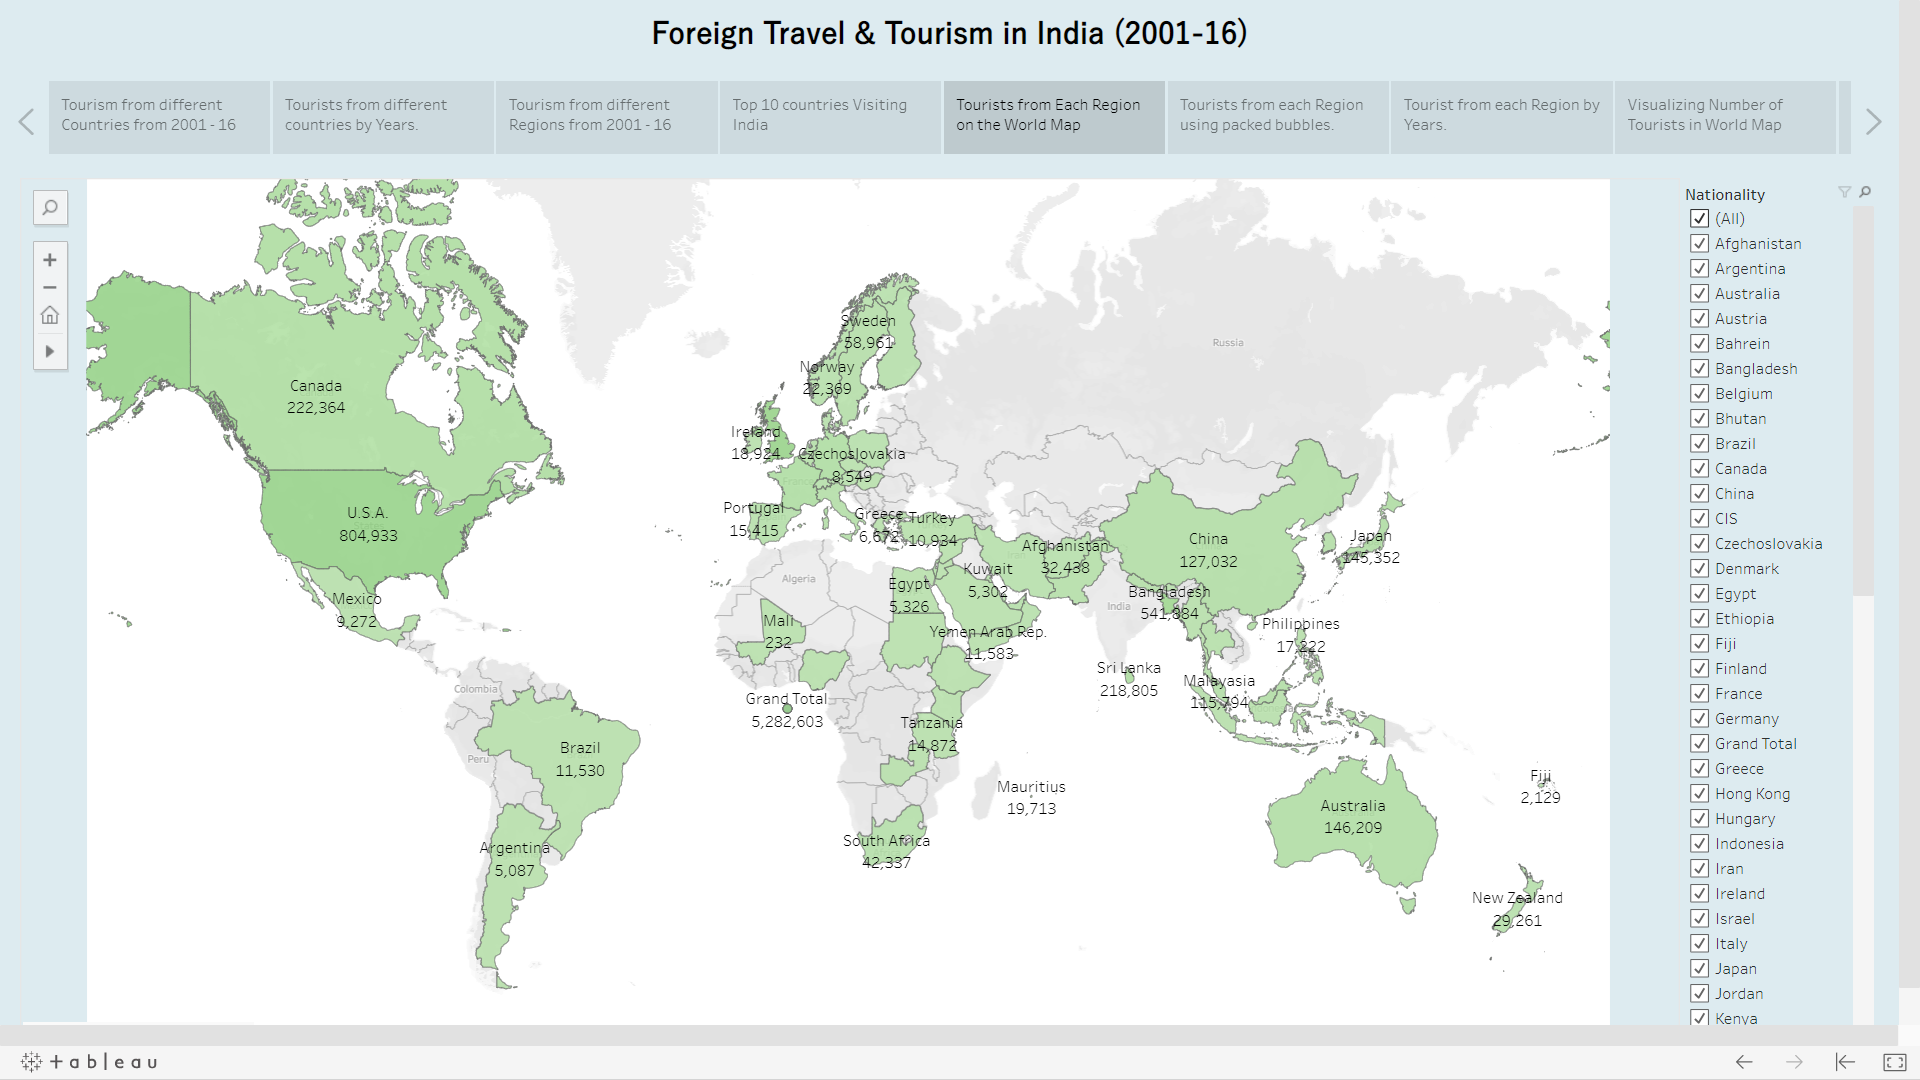

The dashboard page shown, as its layout file describes it:
{"tool":"tableau","page":{"name":"By Country","canvas":[1520,700],"ordinal":0},"visuals":[{"type":"worksheet","box":[0,0,1520,700]},{"type":"worksheet","param":"vert","box":[1273.8,7.9,232.6,63]},{"type":"worksheet","param":"[Parameters].[Parameter 1]","box":[1273.8,7.9,232.6,63]},{"type":"worksheet","param":"vert","box":[8,8,1504,684]},{"type":"worksheet","param":"horz","box":[8,8,1504,684]},{"type":"worksheet","box":[8,8,1504,684]},{"type":"worksheet","title":"Top 10 Countries Visiting India","mark":"Circle","box":[8,8,1504,342]},{"type":"worksheet","title":"Visitors on Map by Country","mark":"Automatic","param":"[federated.0m8pxyp08y5cd51do6m1t1b7czdd].[none:F2:nk]","box":[1283.3,64.8,224.7,292.2]},{"type":"worksheet","box":[13.2,67,341.5,161.3]},{"type":"worksheet","title":"Visitors on Map by Country","mark":"Automatic","box":[8,350,1504,342]}]}

Visuals, with their boxes on the page's 1520x700 design canvas (x1, y1, x2, y2). These are canvas units, not pixel positions in the 1920x1080 screenshot, which may show the page scaled, cropped or inside an application window:
worksheet: left=0, top=0, right=1520, bottom=700
worksheet: left=1274, top=8, right=1506, bottom=71
worksheet: left=1274, top=8, right=1506, bottom=71
worksheet: left=8, top=8, right=1512, bottom=692
worksheet: left=8, top=8, right=1512, bottom=692
worksheet: left=8, top=8, right=1512, bottom=692
"Top 10 Countries Visiting India" worksheet (Circle marks): left=8, top=8, right=1512, bottom=350
"Visitors on Map by Country" worksheet: left=1283, top=65, right=1508, bottom=357
worksheet: left=13, top=67, right=355, bottom=228
"Visitors on Map by Country" worksheet: left=8, top=350, right=1512, bottom=692
